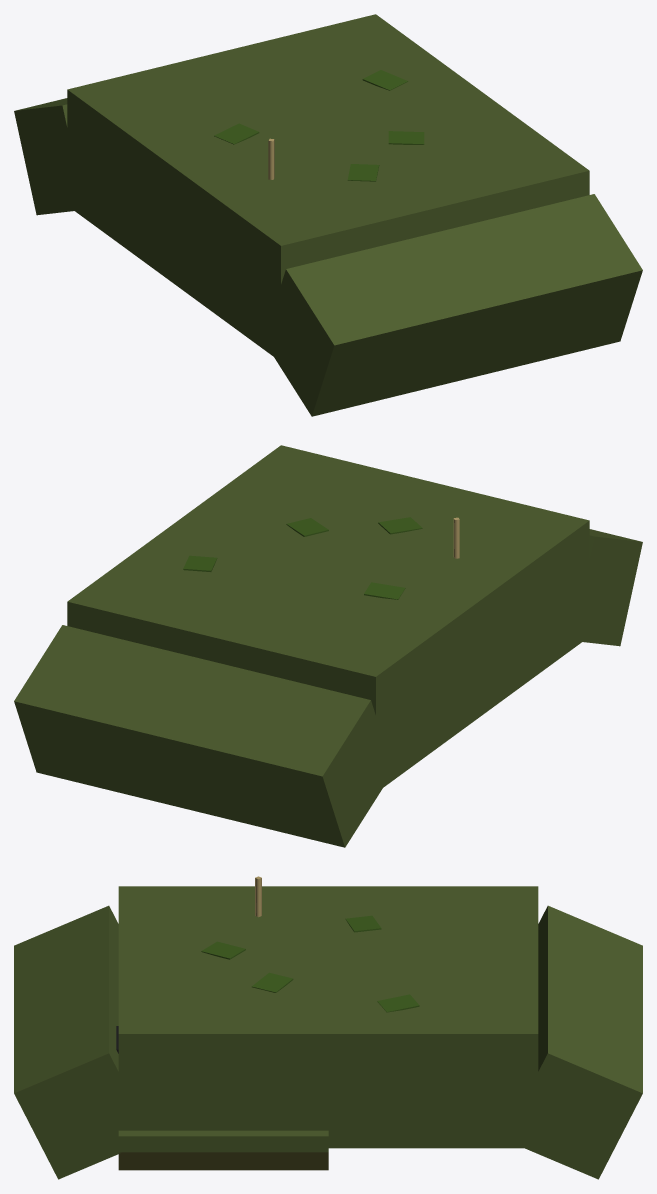
File: bunker-nva.glb
3 views of the same model, one above another, from view 1: azimuth 30°, elevation 25°; view 2: azimuth 150°, elevation 25°; view 3: azimuth 270°, elevation 25° (orthographic).
Parts seen in each view (by area): view 1: Mesh_EarthMound, Mesh_MoundSlopeFront, Mesh_MoundSlopeBack; view 2: Mesh_EarthMound, Mesh_MoundSlopeBack, Mesh_MoundSlopeFront; view 3: Mesh_EarthMound, Mesh_MoundSlopeBack, Mesh_MoundSlopeFront, Mesh_TrenchBermR, Mesh_Trench, Mesh_CamoLeaf2, Mesh_CamoLeaf4, Mesh_CamoLeaf3, Mesh_CamoLeaf1.
Part boxes in pixels (x1,y1,x2,y2): Mesh_EarthMound: [67, 14, 589, 361]; Mesh_MoundSlopeFront: [274, 194, 642, 416]; Mesh_MoundSlopeBack: [14, 98, 84, 215]; Mesh_EarthMound: [67, 445, 589, 792]; Mesh_MoundSlopeBack: [14, 625, 382, 847]; Mesh_MoundSlopeFront: [583, 529, 642, 646]; Mesh_EarthMound: [118, 886, 538, 1148]; Mesh_MoundSlopeBack: [521, 905, 642, 1179]; Mesh_MoundSlopeFront: [14, 905, 131, 1179]; Mesh_TrenchBermR: [118, 1130, 328, 1152]; Mesh_Trench: [118, 1152, 328, 1170]; Mesh_CamoLeaf2: [251, 972, 293, 992]; Mesh_CamoLeaf4: [377, 994, 419, 1012]; Mesh_CamoLeaf3: [201, 941, 245, 959]; Mesh_CamoLeaf1: [345, 915, 381, 932].
Size of the model in its own units: 5.19 by 2.9 by 8.99.
